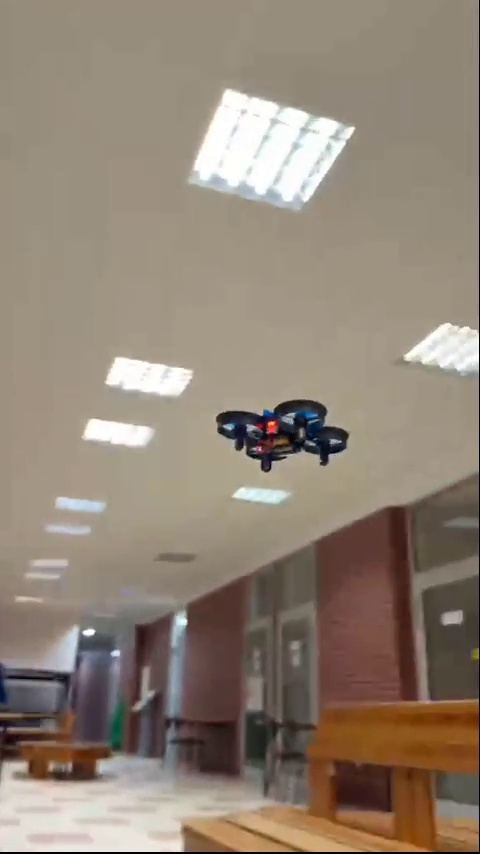drone: (209, 393, 348, 468)
